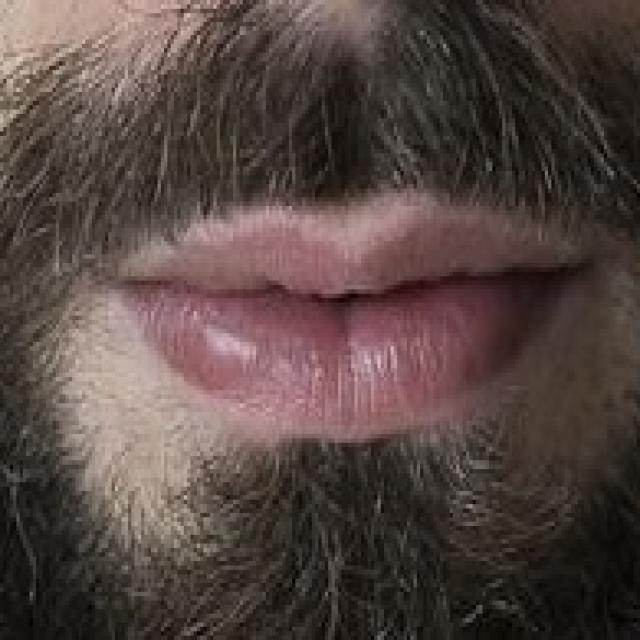closed-mouth: (105, 188, 581, 442)
